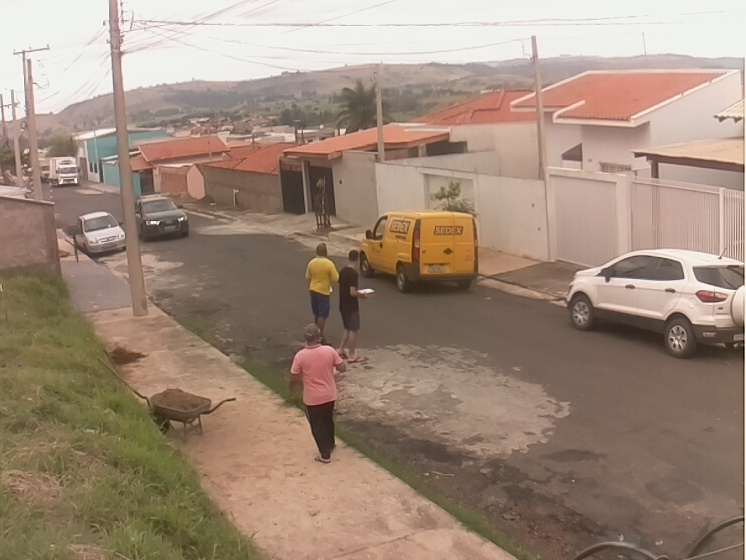person: (285, 321, 346, 464), (304, 241, 339, 345), (338, 248, 368, 365)
